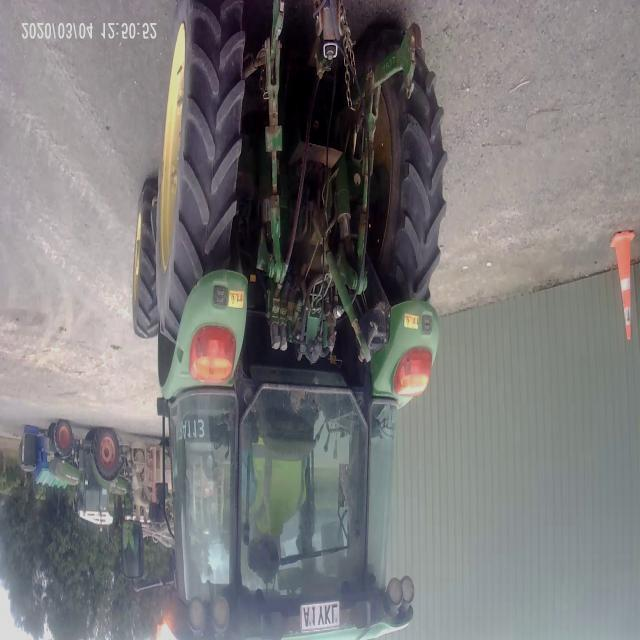Tratores - v5 YOLO V8L 2024-11-13: (132, 0, 456, 640)
